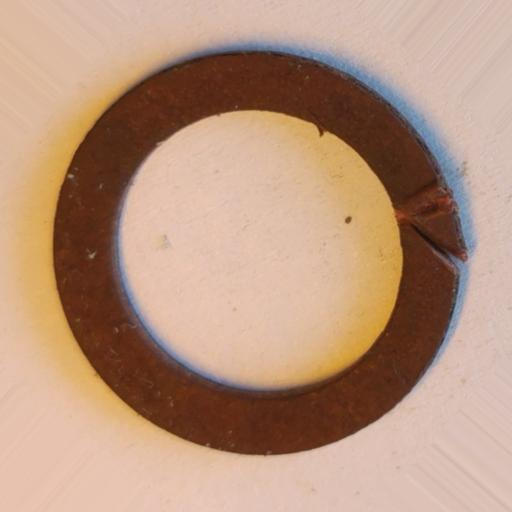defect: (392, 180, 468, 277)
